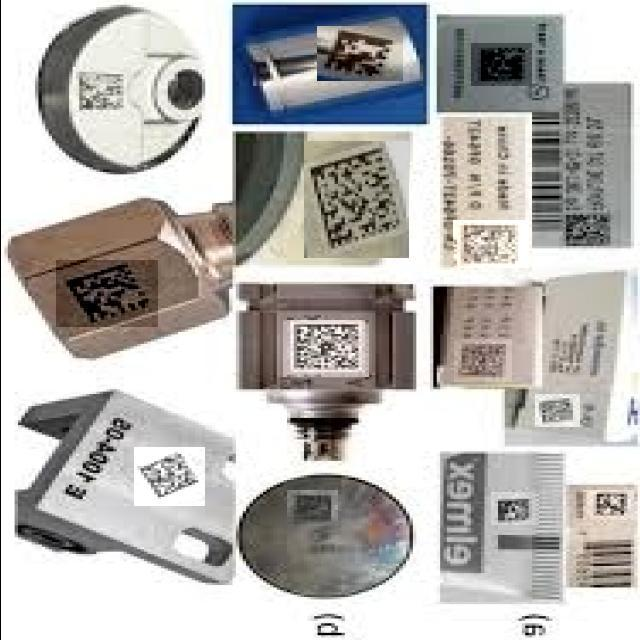Data-Matrix: (303, 141, 408, 258), (55, 260, 157, 327), (282, 320, 368, 377), (316, 26, 402, 81), (133, 447, 204, 506), (452, 220, 528, 268), (72, 67, 130, 117), (470, 43, 531, 86), (558, 210, 620, 251), (453, 339, 511, 382), (286, 490, 337, 526), (490, 492, 538, 525), (582, 490, 633, 520), (534, 394, 579, 427)
